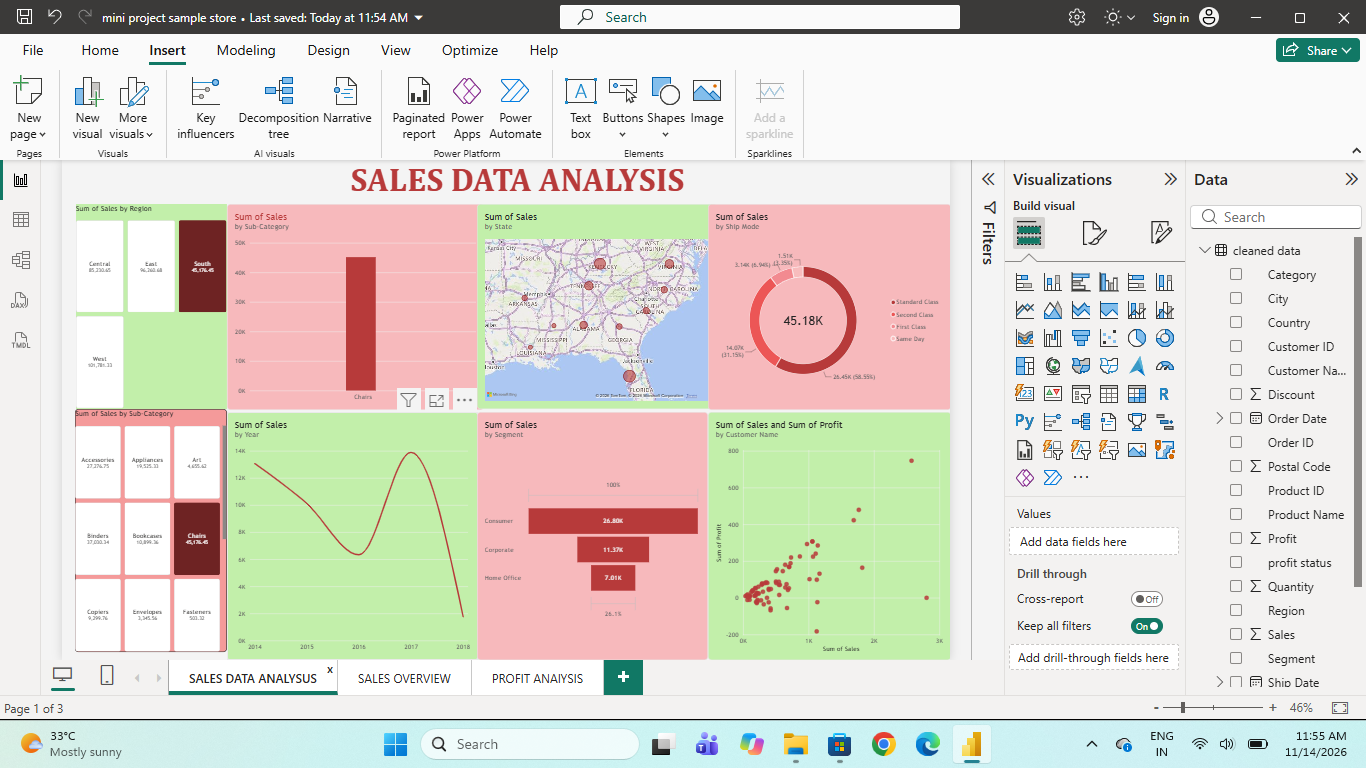

The dashboard page shown, as its layout file describes it:
{"tool":"powerbi","page":{"name":"SALES DATA ANALYSUS","canvas":[1920,1080],"ordinal":0},"visuals":[{"type":"clusteredColumnChart","fields":{"Category":["cleaned data.Sub-Category"],"Y":["Sum(cleaned data.Sales)"]},"box":[356.4,95,555.1,445],"z":0},{"type":"lineChart","fields":{"Category":["cleaned data.Ship Date.Variation.Date Hierarchy.Year"],"Y":["Sum(cleaned data.Sales)"]},"box":[356.4,544.3,542.2,535.7],"z":1000},{"type":"map","fields":{"Category":["cleaned data.State"],"Size":["Sum(cleaned data.Sales)"]},"box":[896.4,95,518.4,442.8],"z":2000},{"type":"donutChart","fields":{"Category":["cleaned data.Ship Mode"],"Y":["Sum(cleaned data.Sales)"]},"box":[1395.4,95,524.9,445],"z":3000},{"type":"funnel","fields":{"Category":["cleaned data.Segment"],"Y":["Sum(cleaned data.Sales)"]},"box":[896.4,544.3,499,535.7],"z":4000},{"type":"scatterChart","fields":{"Category":["cleaned data.Customer Name"],"X":["Sum(cleaned data.Sales)"],"Y":["Sum(cleaned data.Profit)"]},"box":[1395.4,544.3,524.9,535.7],"z":5000},{"type":"advancedSlicerVisual","fields":{"Label":["Sum(cleaned data.Sales)"],"Values":["cleaned data.Region"]},"box":[30.2,95,326.2,442.8],"z":6000},{"type":"advancedSlicerVisual","fields":{"Label":["Sum(cleaned data.Sales)"],"Values":["cleaned data.Sub-Category"]},"box":[28.1,537.8,328.3,524.9],"z":7000},{"type":"textbox","box":[356.4,0,1321.9,71.3],"z":8000},{"type":"textbox","box":[393.1,0,1181.5,95],"z":9000}]}

Visuals, with their boxes on the page's 1920x1080 design canvas (x1, y1, x2, y2). These are canvas units, not pixel positions in the 1366x768 screenshot, which may show the page scaled, cropped or inside an application window:
clusteredColumnChart - cleaned data.Sub-Category x Sum(cleaned data.Sales): [x1=356, y1=95, x2=912, y2=540]
lineChart - cleaned data.Ship Date.Variation.Date Hierarchy.Year x Sum(cleaned data.Sales): [x1=356, y1=544, x2=899, y2=1080]
map - cleaned data.State x Sum(cleaned data.Sales): [x1=896, y1=95, x2=1415, y2=538]
donutChart - cleaned data.Ship Mode x Sum(cleaned data.Sales): [x1=1395, y1=95, x2=1920, y2=540]
funnel - cleaned data.Segment x Sum(cleaned data.Sales): [x1=896, y1=544, x2=1395, y2=1080]
scatterChart - cleaned data.Customer Name x Sum(cleaned data.Sales): [x1=1395, y1=544, x2=1920, y2=1080]
advancedSlicerVisual - Sum(cleaned data.Sales) x cleaned data.Region: [x1=30, y1=95, x2=356, y2=538]
advancedSlicerVisual - Sum(cleaned data.Sales) x cleaned data.Sub-Category: [x1=28, y1=538, x2=356, y2=1063]
textbox: [x1=356, y1=0, x2=1678, y2=71]
textbox: [x1=393, y1=0, x2=1575, y2=95]
